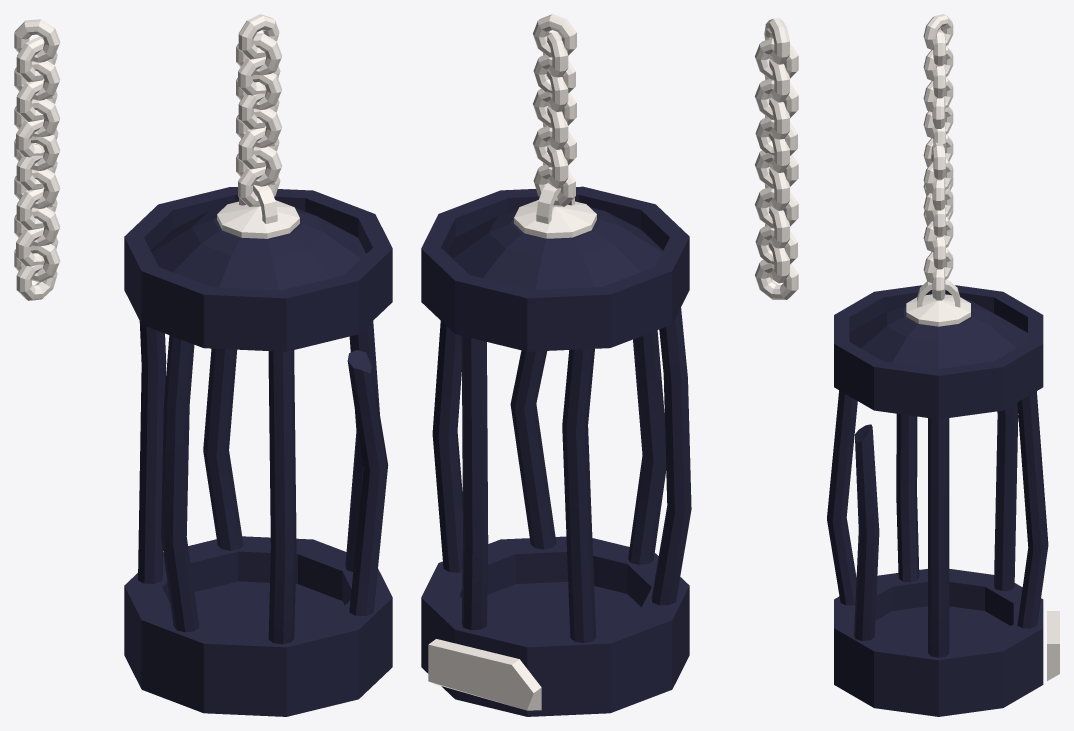
The model's file is cage_01.fbx.
3 renders of one model, left to right at view 1: azimuth 30°, elevation 25°; view 2: azimuth 150°, elevation 25°; view 3: azimuth 270°, elevation 25°, orthographic. The views are drawn at different scales.
Parts seen in each view (by area): view 1: cage_01, chaine; view 2: cage_01, chaine; view 3: cage_01, chaine.
Boxes of the visible parts, bbox=[...] form: cage_01: bbox=[124, 14, 392, 716]; chaine: bbox=[14, 19, 60, 300]; cage_01: bbox=[421, 14, 691, 716]; chaine: bbox=[754, 18, 798, 299]; cage_01: bbox=[827, 142, 1059, 716]; chaine: bbox=[923, 14, 953, 225].
Size of the model in its own units: 0.9488 by 1.74 by 0.6473.
1 material, 1 textured.
